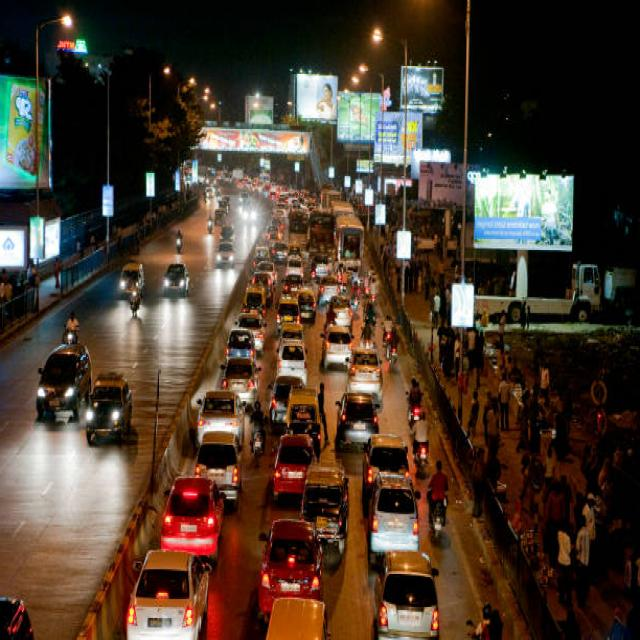Werbetafel frei: (473, 171, 574, 249), (1, 82, 50, 189), (376, 110, 423, 167), (200, 128, 311, 150), (337, 90, 385, 140), (293, 74, 336, 124), (400, 70, 444, 108), (246, 96, 270, 128)
